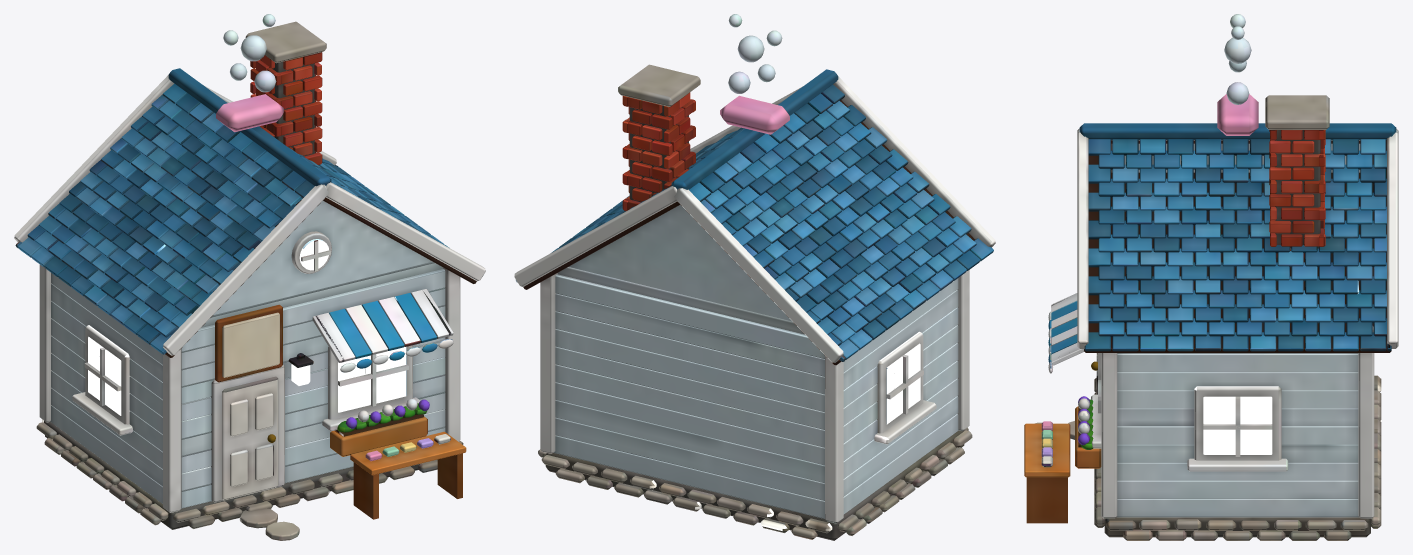
The model's file is soap_maker.glb.
The picture shows the model from 3 angles, left to right: view 1: azimuth 30°, elevation 25°; view 2: azimuth 150°, elevation 25°; view 3: azimuth 270°, elevation 25°; orthographic projection. The views are drawn at different scales.
Visible parts, largest first — view 1: soap_maker; view 2: soap_maker; view 3: soap_maker.
Part boxes in pixels (bbox=[...]): soap_maker: bbox=[14, 14, 485, 540]; soap_maker: bbox=[514, 14, 995, 540]; soap_maker: bbox=[1024, 14, 1398, 540].
Size of the model in its own units: 1.69 by 2.16 by 1.63.
Materials: 1 (1 with a texture image).
